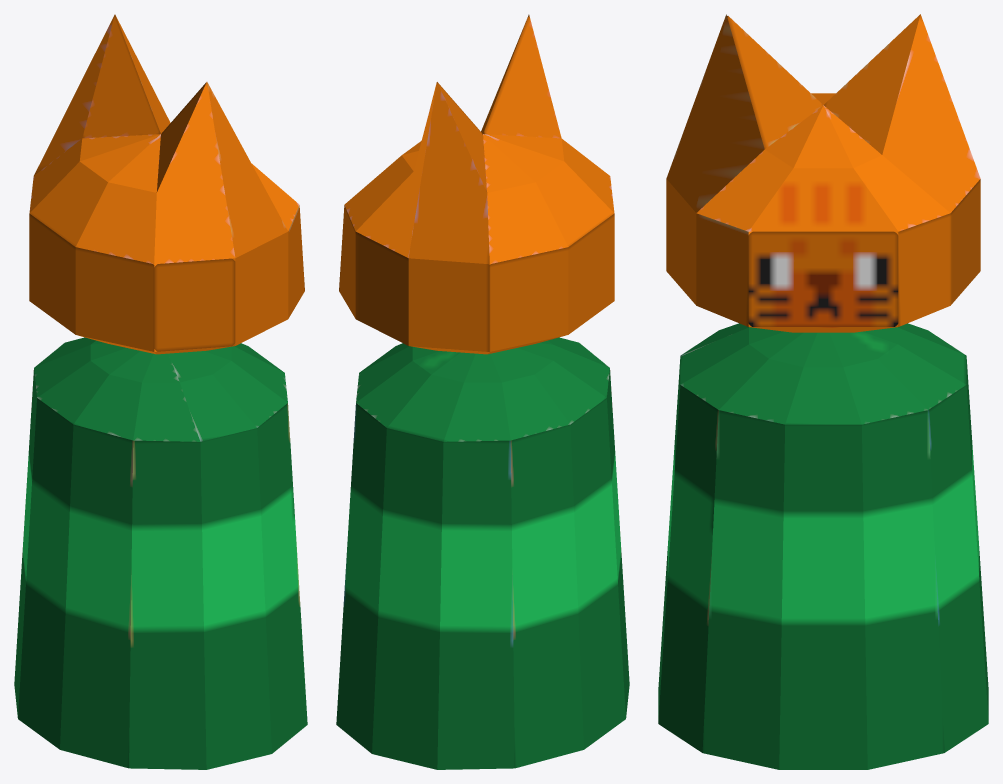
The model's file is NPC.obj.
The picture shows the model from 3 angles, left to right: view 1: azimuth 30°, elevation 25°; view 2: azimuth 150°, elevation 25°; view 3: azimuth 270°, elevation 25°; orthographic projection. The views are drawn at different scales.
Visible parts, largest first — view 1: sphere; view 2: sphere; view 3: sphere.
Boxes of the visible parts, x1=… form: sphere: x1=14, y1=14, x2=307, y2=769; sphere: x1=336, y1=14, x2=629, y2=769; sphere: x1=658, y1=14, x2=988, y2=769.
Size of the model in its own units: 0.2812 by 0.7233 by 0.3125.
Materials: 1 (1 with a texture image).
